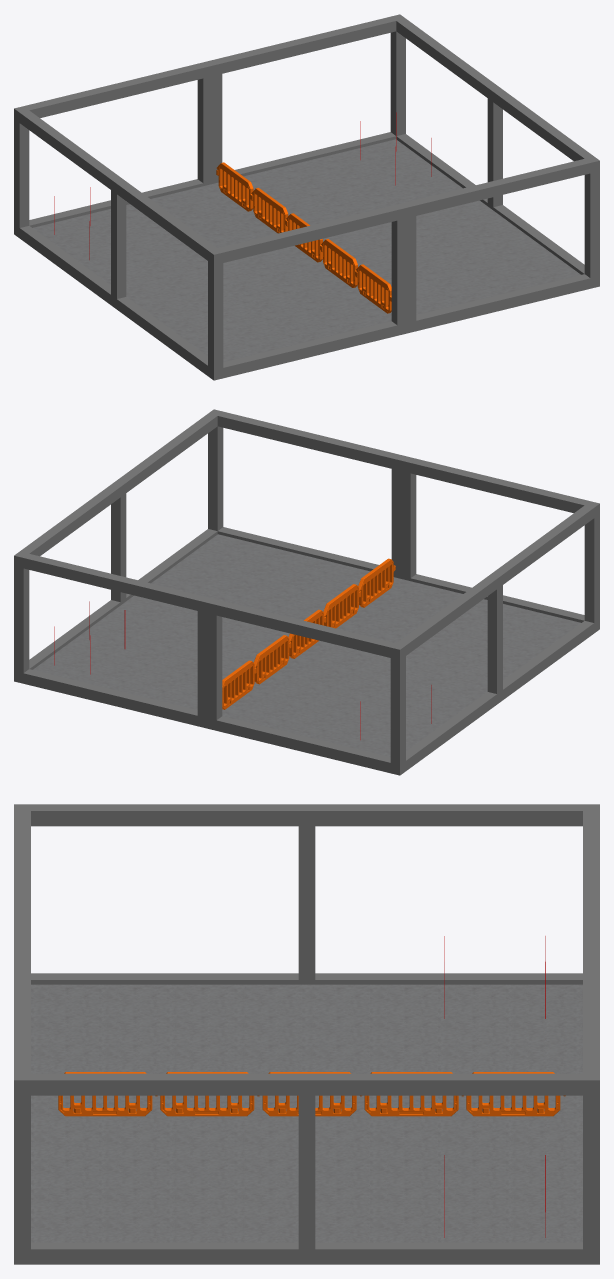
Rendered from ucf_arena.glb.
3 renders of one model, top to bottom at view 1: azimuth 30°, elevation 25°; view 2: azimuth 150°, elevation 25°; view 3: azimuth 270°, elevation 25°, orthographic. The views are drawn at different scales.
Parts seen in each view (by area): view 1: ucf_arena_flat_no_rocks; view 2: ucf_arena_flat_no_rocks; view 3: ucf_arena_flat_no_rocks.
Boxes of the visible parts, <box> form: ucf_arena_flat_no_rocks: <box>14,14,599,380</box>; ucf_arena_flat_no_rocks: <box>14,409,599,775</box>; ucf_arena_flat_no_rocks: <box>14,804,599,1264</box>.
Bounding box in the file's own units: 9.63 × 3 × 8.64.
Materials: 4 (1 with a texture image).
